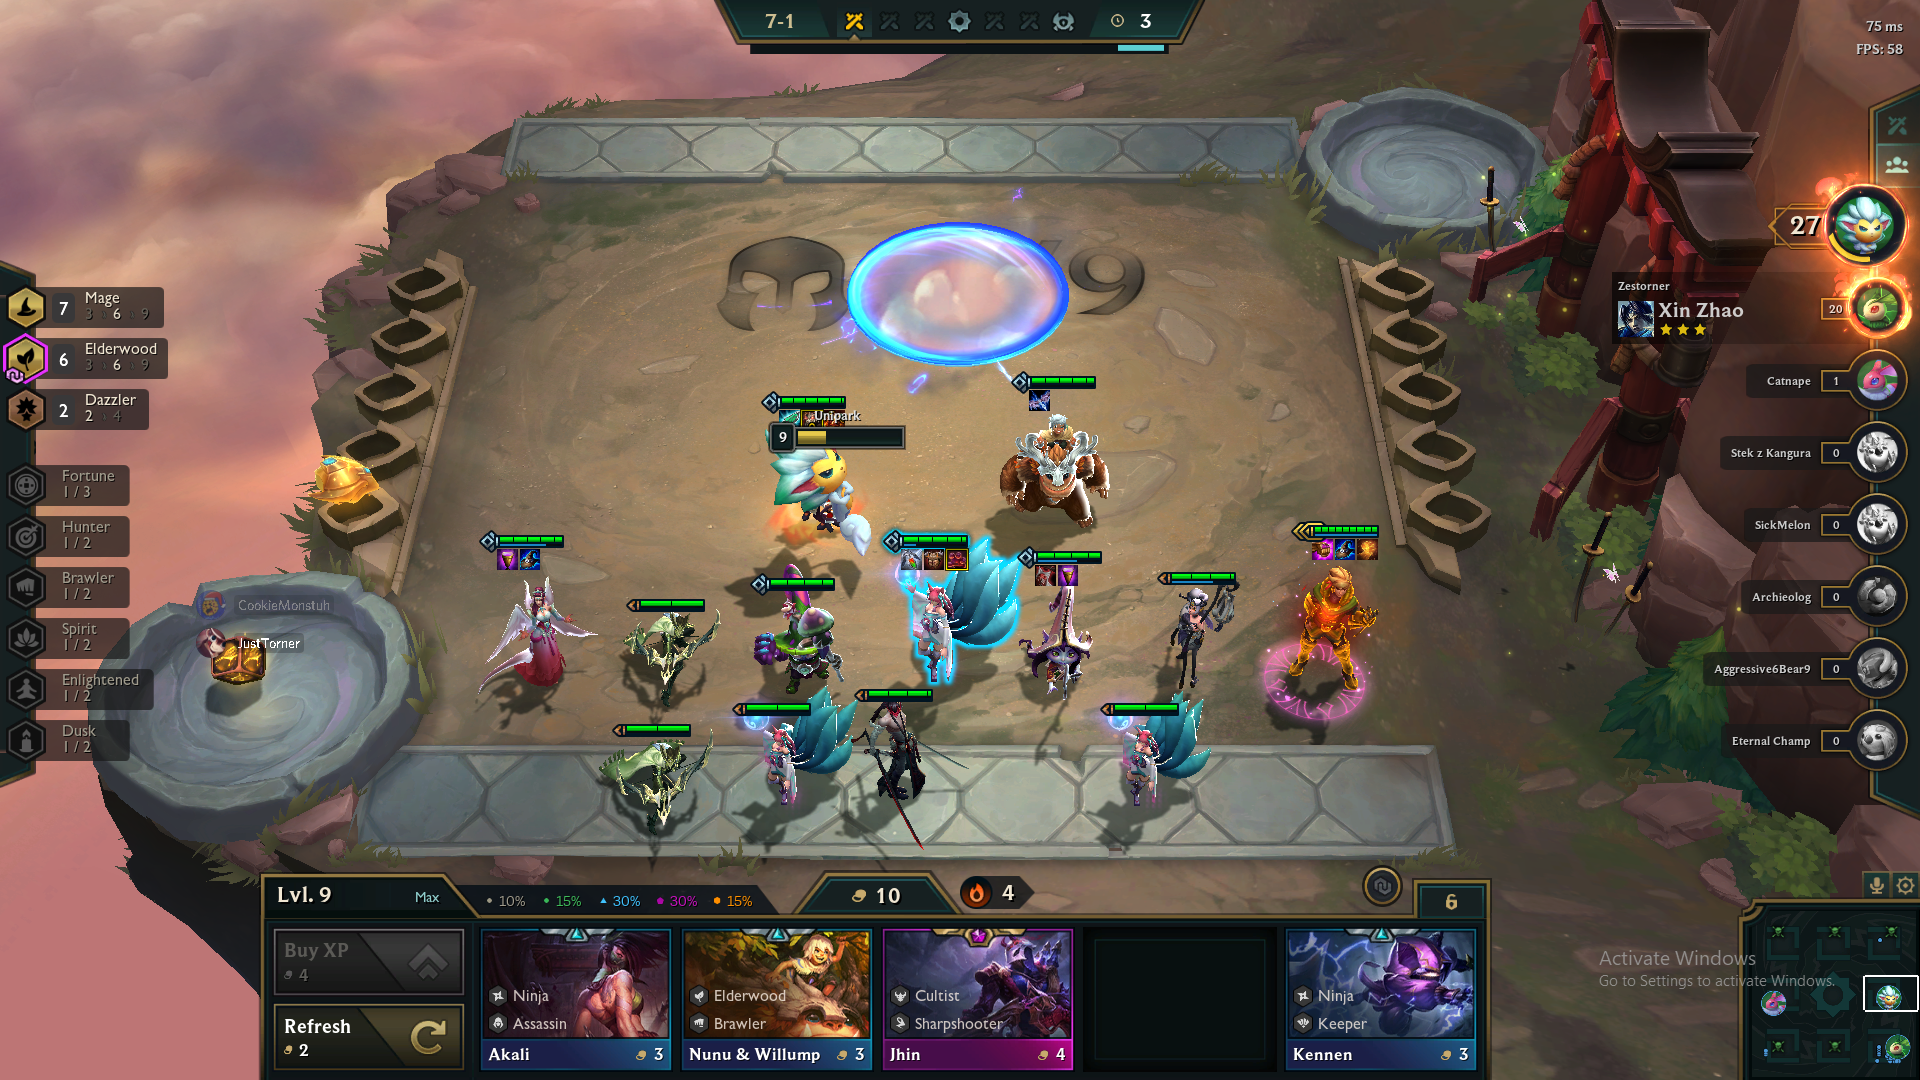1star_ahri: (719, 680, 866, 847), (1088, 684, 1213, 851)
1star_ashe: (585, 704, 728, 855), (601, 579, 733, 731)
1star_lillia: (1138, 556, 1251, 720)
1star_yone: (837, 670, 977, 847)
2star_ahri: (872, 510, 1034, 699)
2star_lulu: (1004, 530, 1122, 707)
2star_morgana: (454, 512, 608, 744)
2star_nunu: (982, 359, 1122, 553)
2star_veigar: (724, 547, 858, 727)
3star_ezreal: (1249, 512, 1396, 731)
3star_ezreal_chosen: (1251, 509, 1396, 732)
item_bramble: (920, 545, 948, 572)
item_chalice: (492, 545, 524, 574), (1058, 559, 1083, 587)
item_hoj: (1354, 534, 1383, 564)
item_jeweledgauntlet: (1307, 535, 1337, 564)
item_mage: (516, 541, 545, 574), (1332, 535, 1361, 560)
item_redemption: (898, 541, 927, 575)
item_spark: (1026, 385, 1056, 414)
item_thief: (943, 545, 972, 576)
item_zeke: (1033, 559, 1059, 589)
trait_brawler1: (1, 559, 173, 616)
trait_dazzler2: (1, 381, 173, 438)
trait_dusk1: (1, 709, 173, 766)
trait_elderwood6: (1, 331, 173, 388), (1, 711, 173, 767)
trait_elderwood_chosen: (1, 330, 55, 384)
trait_enlightened1: (1, 662, 173, 719)
trait_fortune1: (1, 458, 173, 514)
trait_hunter1: (1, 506, 173, 563)
trait_mage7: (1, 278, 173, 335)
trait_spirit1: (1, 611, 173, 667)
